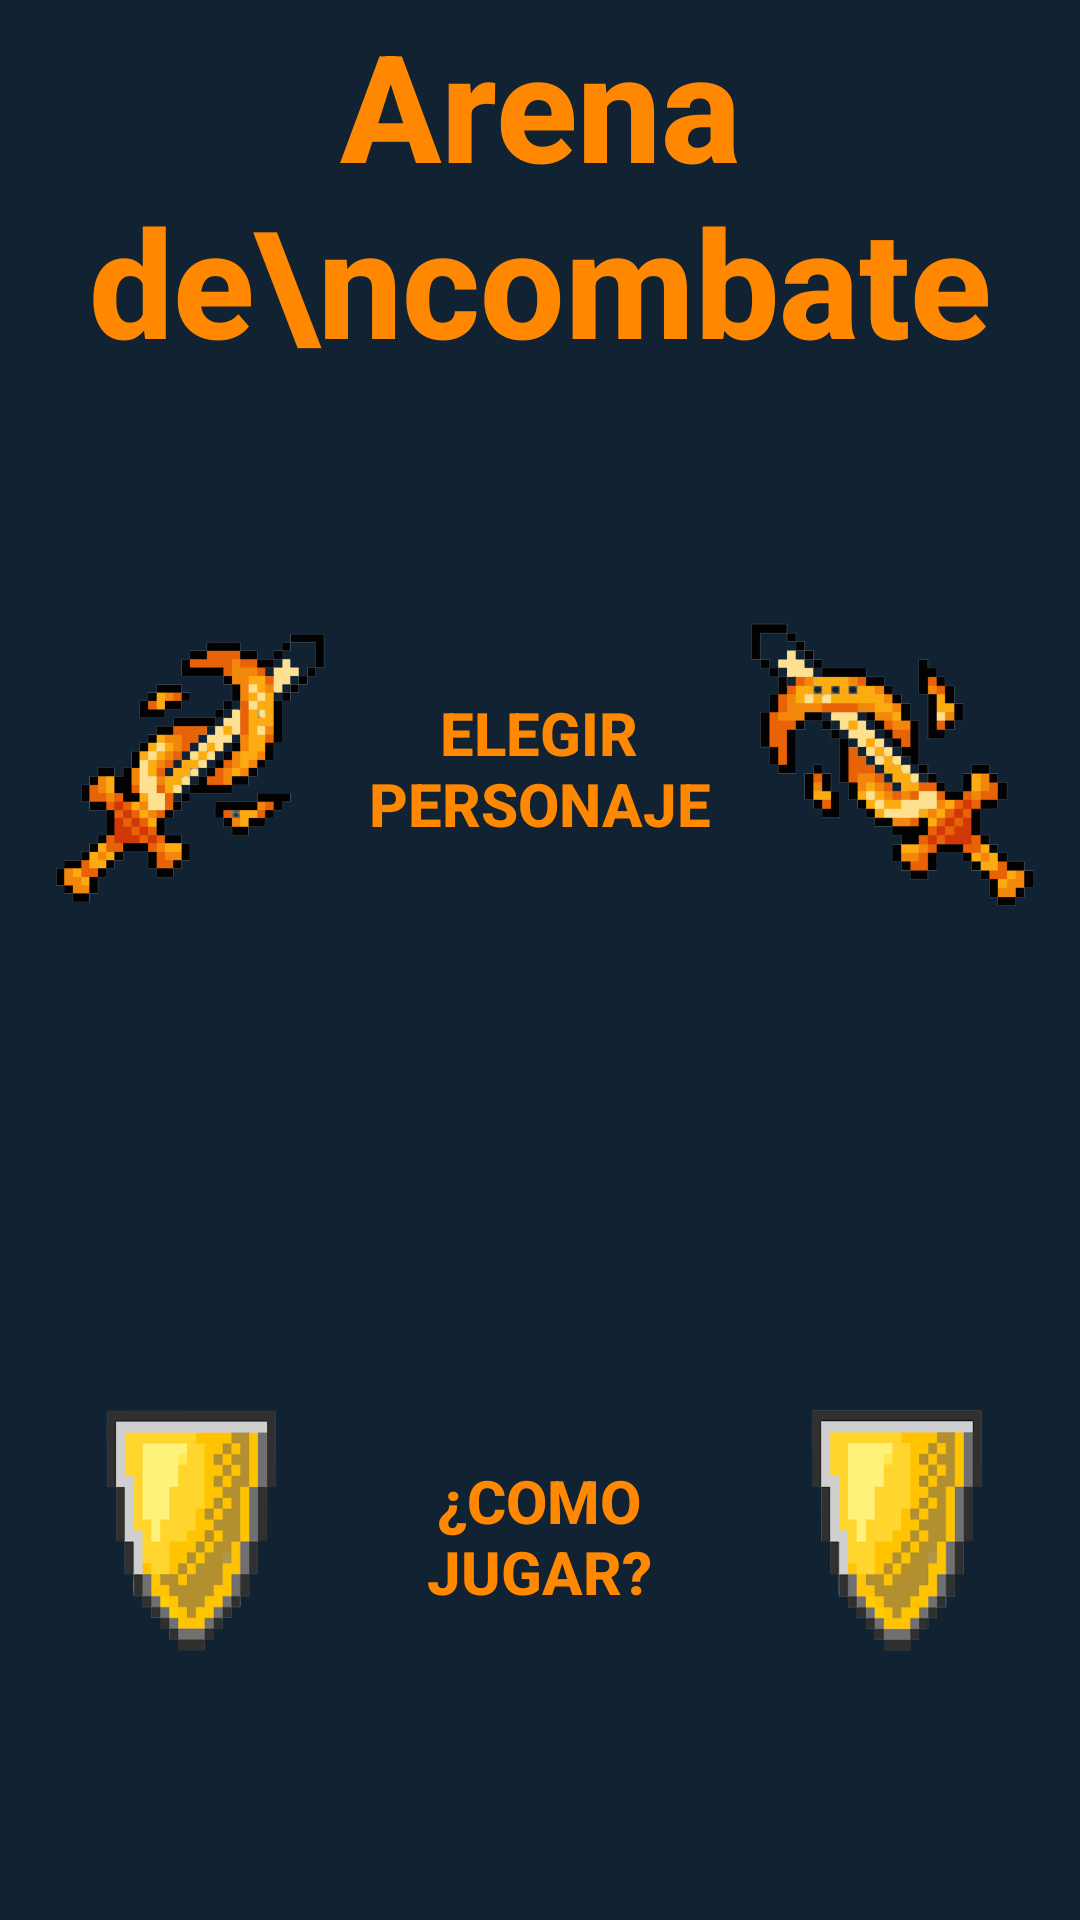

Where to tap for icons on this 1080×1920 app screen, as [x,y]:
shield nobg: [897,1530], [191,1530]
sword left nobg: [190,768]
sword right nobg: [892,765]
